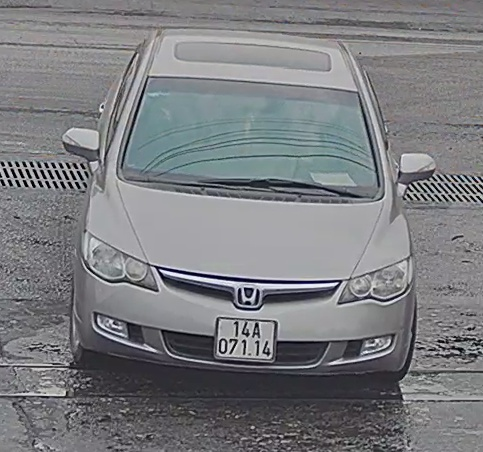vehicle plate: (208, 313, 284, 364)
